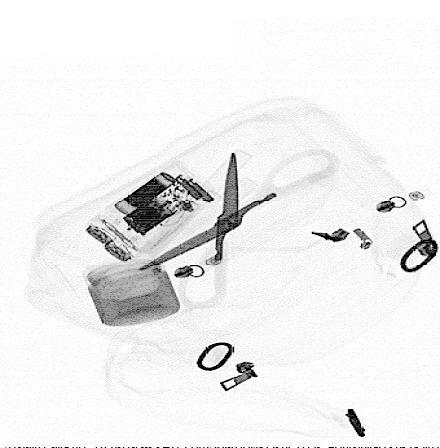Scissors: (140, 147, 345, 310)
